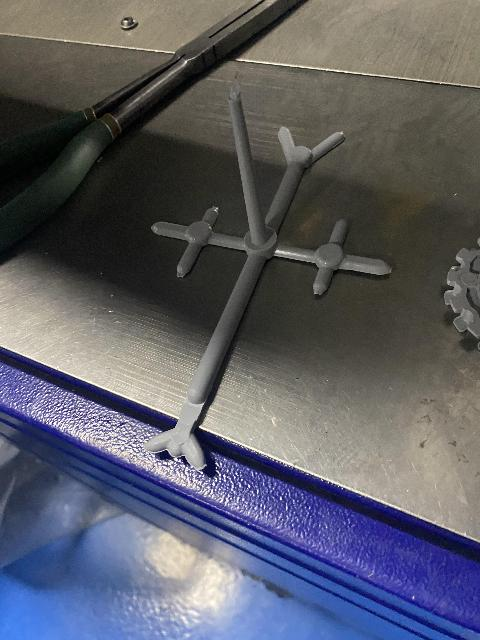Plastik: (102, 106, 394, 473), (433, 225, 480, 368)
